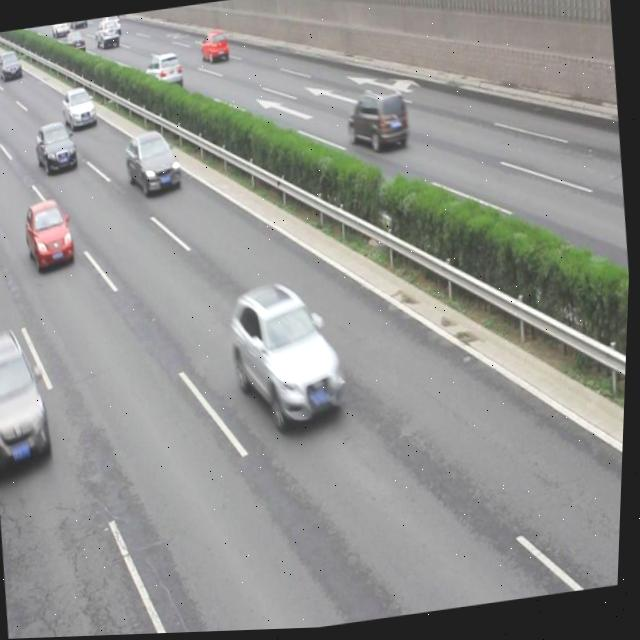car: (227, 278, 351, 438), (0, 329, 58, 470), (344, 90, 409, 157), (123, 128, 184, 198), (24, 196, 78, 271), (34, 121, 78, 173), (143, 50, 184, 92), (61, 86, 97, 130), (199, 28, 229, 66), (94, 18, 121, 51), (0, 49, 24, 80), (62, 30, 87, 58)
